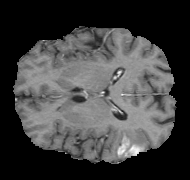Edema: (114, 129, 148, 161)
EnhancingTumors: (118, 138, 142, 157)
Necrosis: (119, 136, 138, 157)
